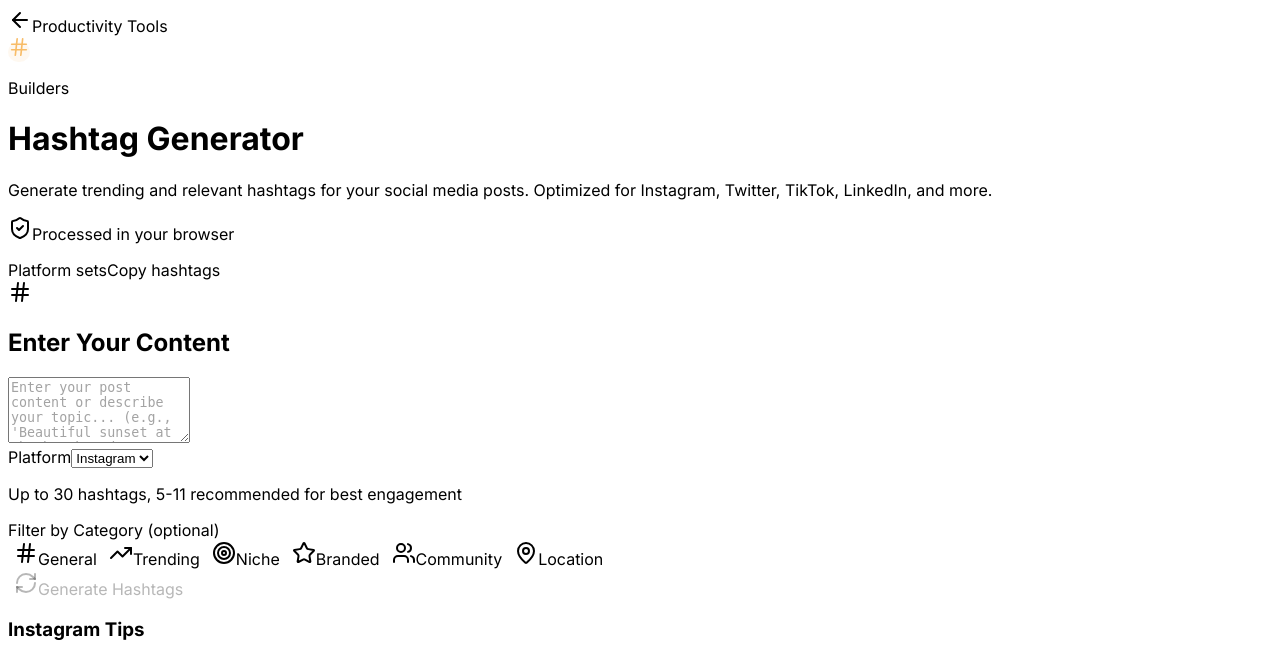
HashtagGeneratorPage › Hashtag Generation › generates hashtags when button is clicked with content
Type "Beautiful sunset at the beach vacation travel" into the text box with placeholder "Enter your post content or describe your topic".
click(99, 410); type("Beautiful sunset at the beach vacation travel")  # box [8,377,190,443]
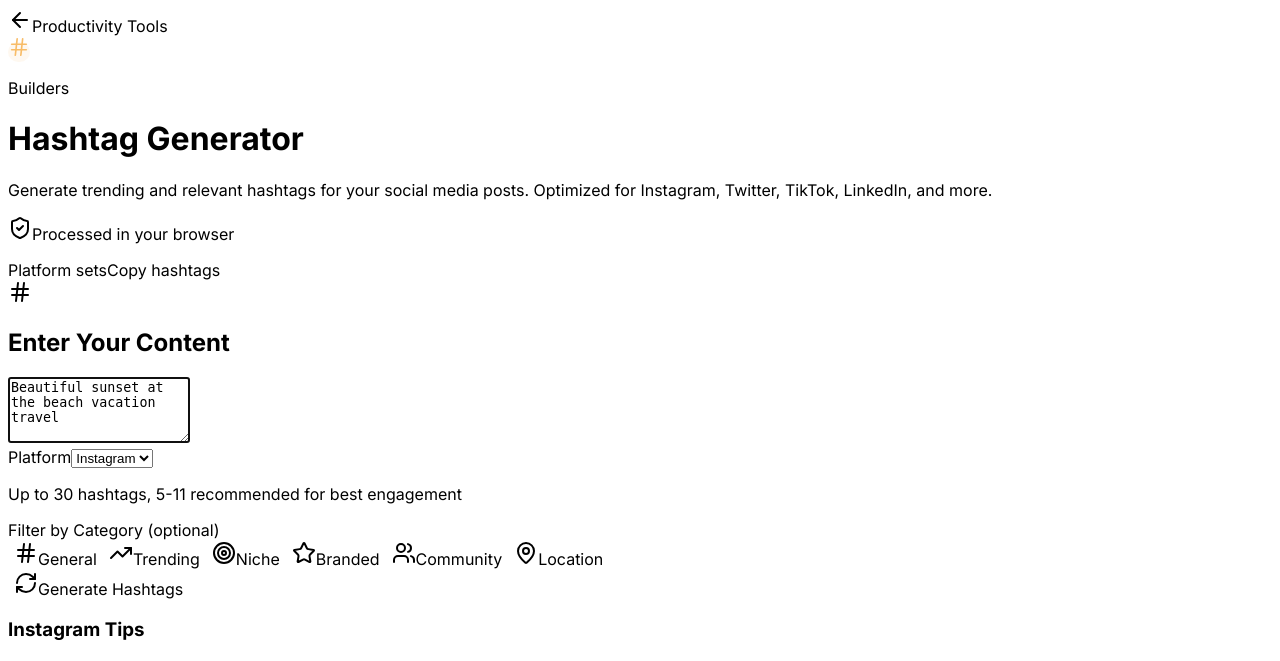
Click the button "Generate Hashtags".
click(99, 585)  # box [8,570,189,600]
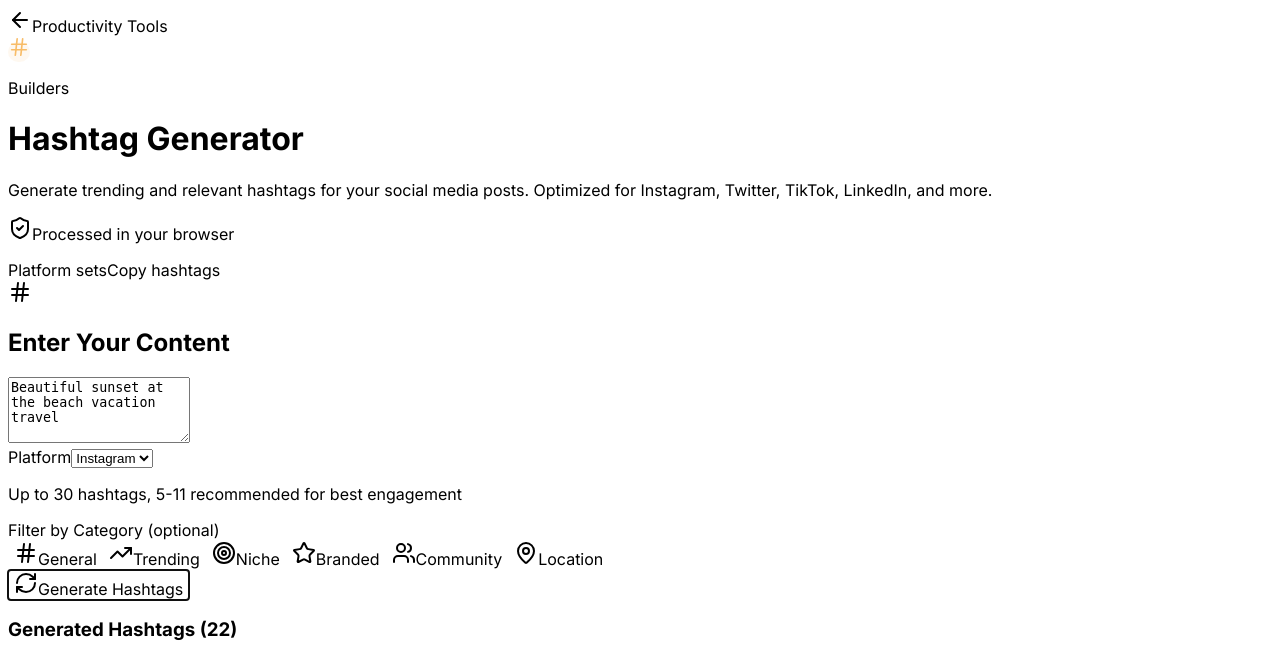
Check: the heading "Generated Hashtags (22)" is shown, box [8,618,237,641]
